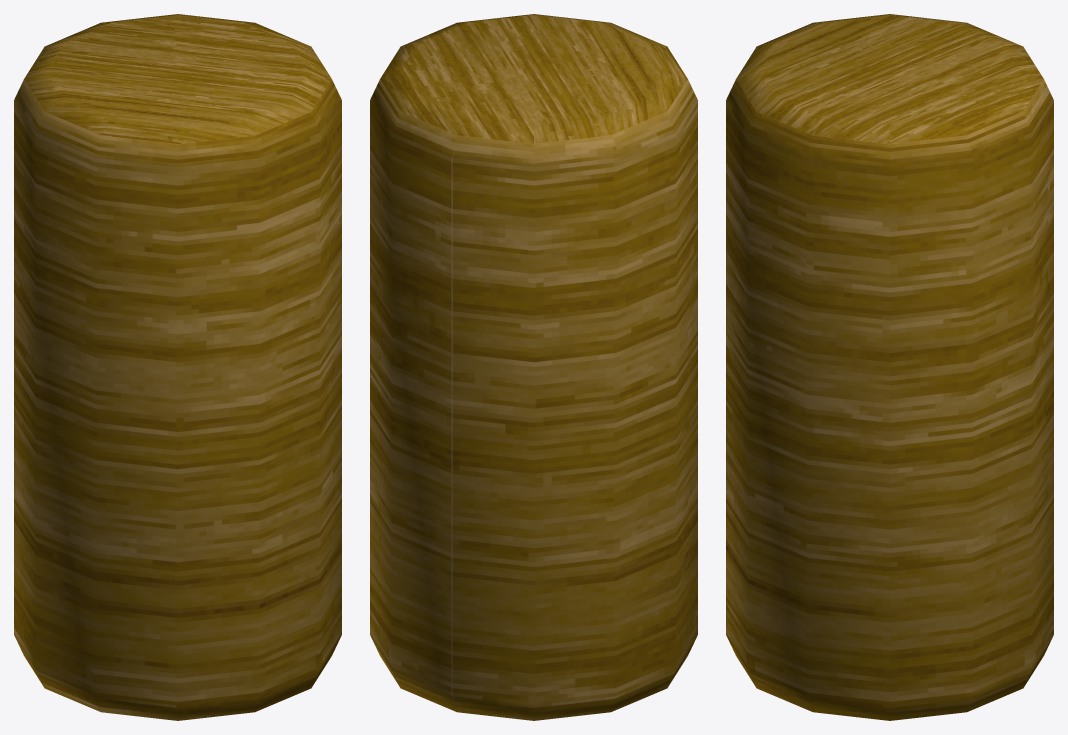
File: CylinderD.fbx
The picture shows the model from 3 angles, left to right: view 1: azimuth 30°, elevation 25°; view 2: azimuth 150°, elevation 25°; view 3: azimuth 270°, elevation 25°; orthographic projection.
Parts seen in each view (by area): view 1: CylinderD; view 2: CylinderD; view 3: CylinderD.
Part boxes in pixels (<box>): CylinderD: <box>14,14,341,720</box>; CylinderD: <box>370,14,697,720</box>; CylinderD: <box>726,14,1053,720</box>.
Bounding box in the file's own units: 1 × 1 × 2.
Materials: 1 (1 with a texture image).
